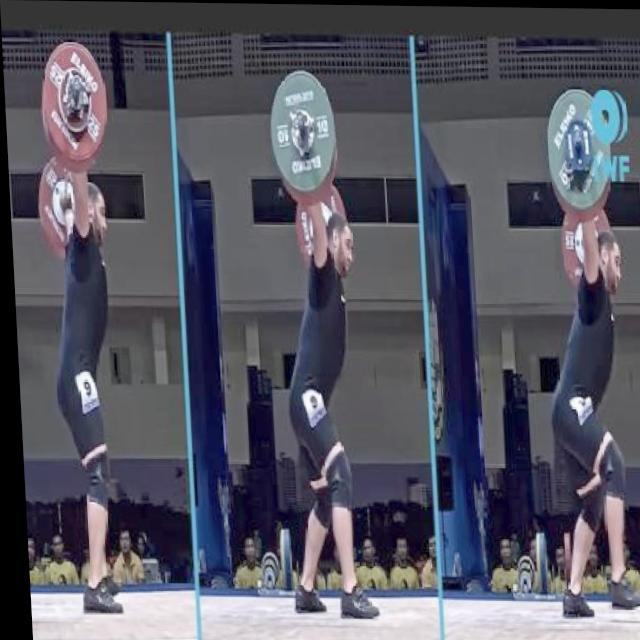barbell: (32, 34, 114, 172), (260, 66, 343, 197), (541, 86, 616, 210)
